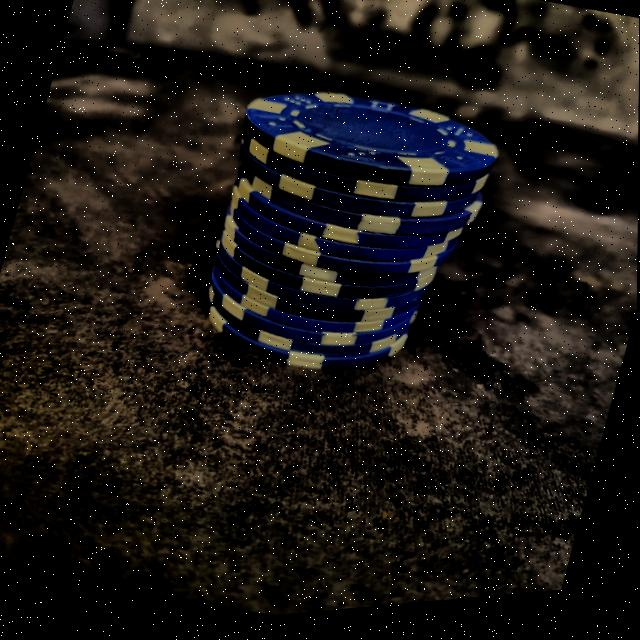Chip: (164, 56, 525, 431)
